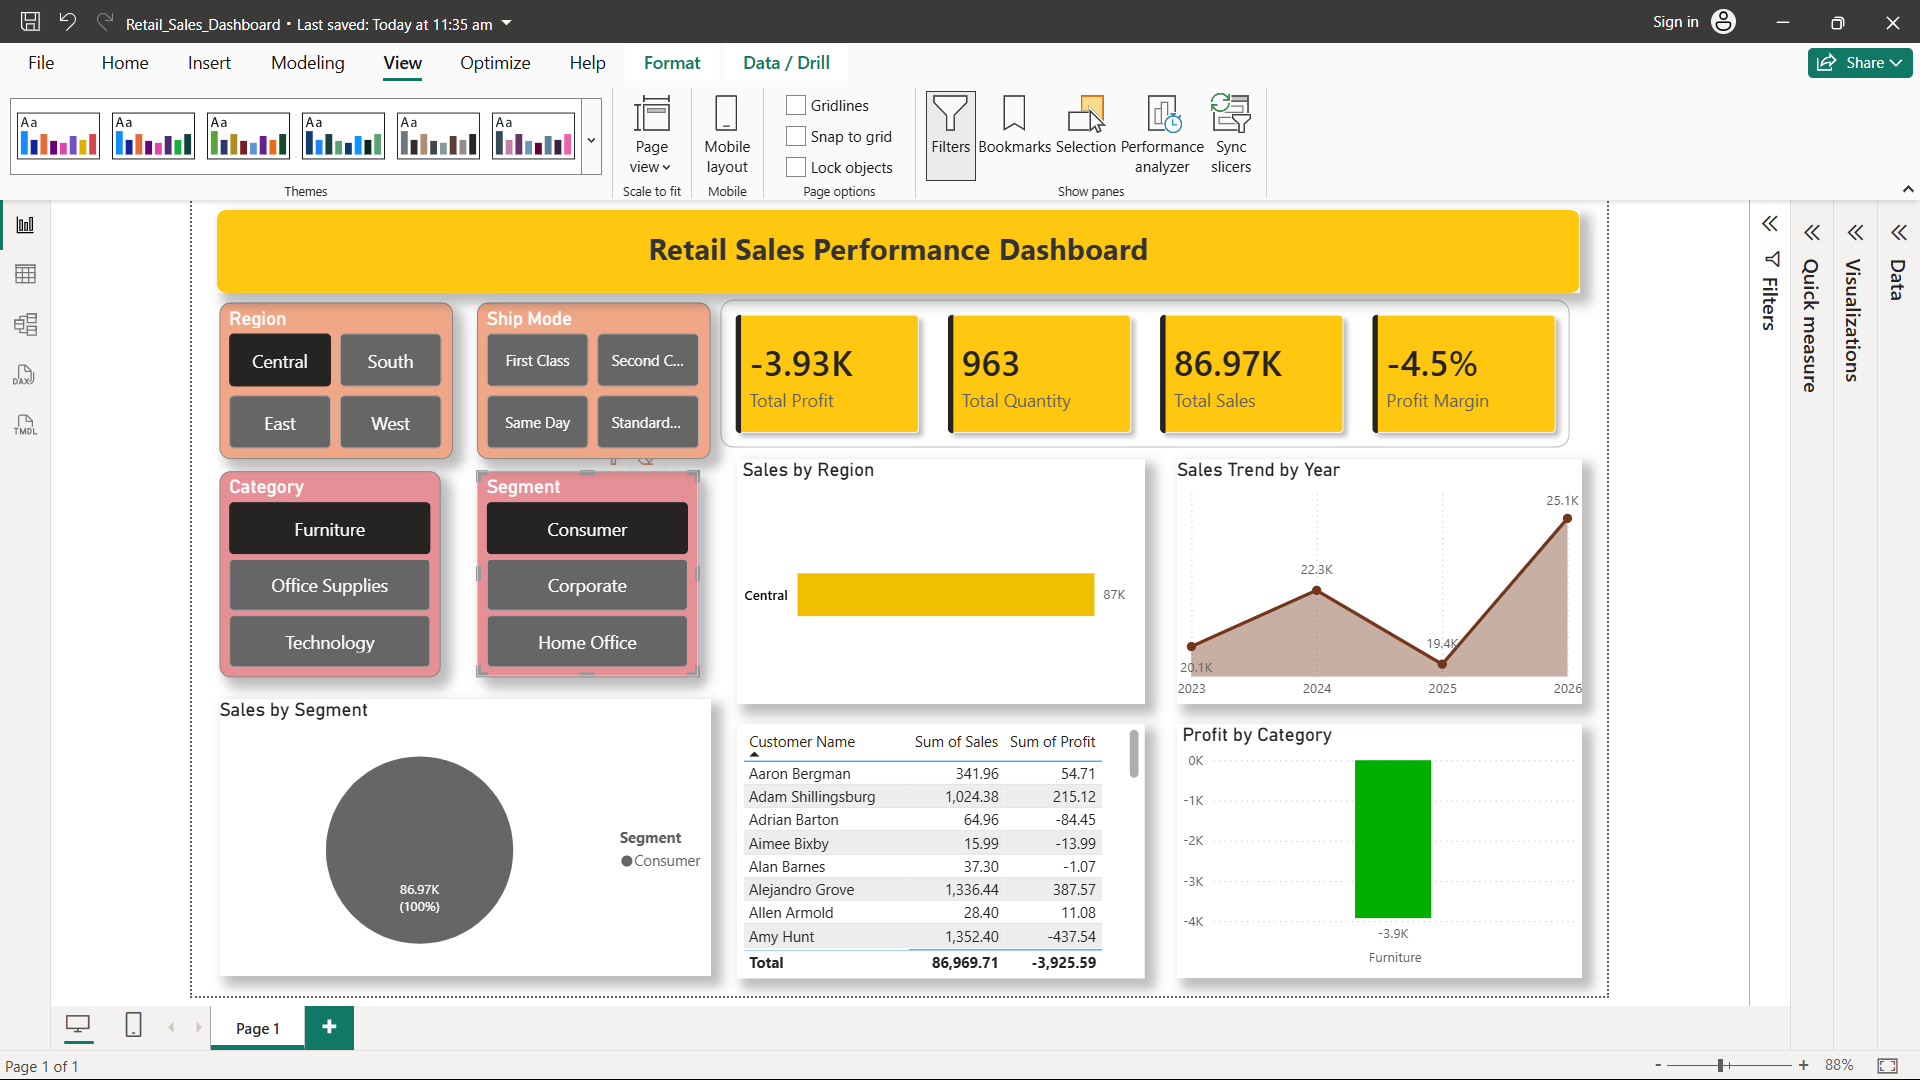

The dashboard page shown, as its layout file describes it:
{"tool":"powerbi","page":{"name":"Page 1","canvas":[1280,720],"ordinal":0},"visuals":[{"type":"cardVisual","fields":{"Data":["samplesuperstore.Total Profit","samplesuperstore.Total Quantity","samplesuperstore.Total Sales","samplesuperstore.Profit Margin"]},"box":[467.9,28.8,783.5,164.7],"z":0},{"type":"barChart","fields":{"Y":["Sum(samplesuperstore.Sales)"],"Category":["samplesuperstore.Region"]},"box":[503.5,203.5,347.7,229.1],"z":1000},{"type":"clusteredColumnChart","fields":{"Category":["samplesuperstore.Category"],"Y":["Sum(samplesuperstore.Profit)"]},"box":[889.2,446,366.4,244.3],"z":2000},{"type":"pieChart","fields":{"Category":["samplesuperstore.Segment"],"Y":["Sum(samplesuperstore.Sales)"]},"box":[22.1,400,445.4,296.5],"z":3000},{"type":"tableEx","fields":{"Values":["samplesuperstore.Customer Name","Sum(samplesuperstore.Sales)","Sum(samplesuperstore.Profit)"]},"box":[491.3,446,369.1,252.5],"z":4000},{"type":"lineChart","fields":{"Category":["samplesuperstore.Order Date.Variation.Date Hierarchy.Year","samplesuperstore.Order Date.Variation.Date Hierarchy.Quarter","samplesuperstore.Order Date.Variation.Date Hierarchy.Month","samplesuperstore.Order Date.Variation.Date Hierarchy.Day"],"Y":["Sum(samplesuperstore.Sales)"]},"box":[889.5,203.5,366.3,222.1],"z":5000},{"type":"advancedSlicerVisual","fields":{"Values":["samplesuperstore.Region"]},"box":[22.1,30.2,211.6,140.7],"z":6000},{"type":"advancedSlicerVisual","fields":{"Values":["samplesuperstore.Segment"]},"box":[255.8,194.2,200,186],"z":7000},{"type":"advancedSlicerVisual","fields":{"Values":["samplesuperstore.Category"]},"box":[33.7,194.2,200,186],"z":8000},{"type":"advancedSlicerVisual","fields":{"Values":["samplesuperstore.Ship Mode"]},"box":[255.8,29.1,211.6,140.7],"z":9000}]}

Visuals, with their boxes on the page's 1280x720 design canvas (x1, y1, x2, y2). These are canvas units, not pixel positions in the 1920x1080 screenshot, which may show the page scaled, cropped or inside an application window:
cardVisual - samplesuperstore.Total Profit x samplesuperstore.Total Quantity: bbox=[468, 29, 1251, 194]
barChart - Sum(samplesuperstore.Sales) x samplesuperstore.Region: bbox=[504, 204, 851, 433]
clusteredColumnChart - samplesuperstore.Category x Sum(samplesuperstore.Profit): bbox=[889, 446, 1256, 690]
pieChart - samplesuperstore.Segment x Sum(samplesuperstore.Sales): bbox=[22, 400, 468, 696]
tableEx - samplesuperstore.Customer Name x Sum(samplesuperstore.Sales): bbox=[491, 446, 860, 698]
lineChart - samplesuperstore.Order Date.Variation.Date Hierarchy.Year x samplesuperstore.Order Date.Variation.Date Hierarchy.Quarter: bbox=[890, 204, 1256, 426]
advancedSlicerVisual - samplesuperstore.Region: bbox=[22, 30, 234, 171]
advancedSlicerVisual - samplesuperstore.Segment: bbox=[256, 194, 456, 380]
advancedSlicerVisual - samplesuperstore.Category: bbox=[34, 194, 234, 380]
advancedSlicerVisual - samplesuperstore.Ship Mode: bbox=[256, 29, 467, 170]
